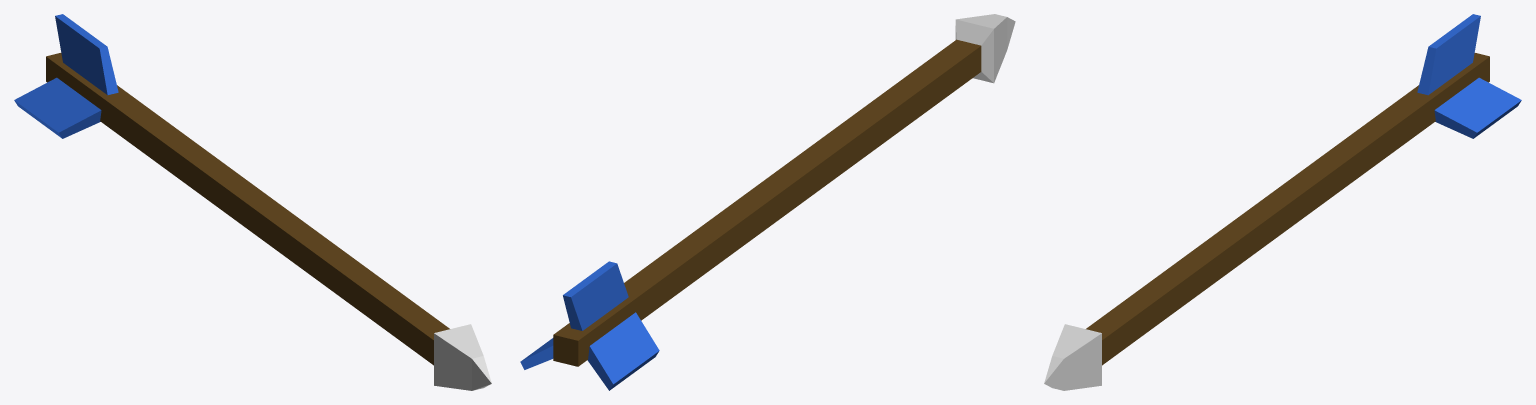
Rendered from arrow.fbx.
The picture shows the model from 3 angles, left to right: view 1: azimuth 30°, elevation 25°; view 2: azimuth 150°, elevation 25°; view 3: azimuth 330°, elevation 25°; orthographic projection. The views are drawn at different scales.
Visible parts, largest first — view 1: Cube; view 2: Cube; view 3: Cube.
Part boxes in pixels (x1,y1,x2,y2): Cube: [14, 14, 491, 390]; Cube: [520, 14, 1015, 390]; Cube: [1044, 14, 1521, 390].
Bounding box in the file's own units: 10.38 × 8.99 × 86.9.
